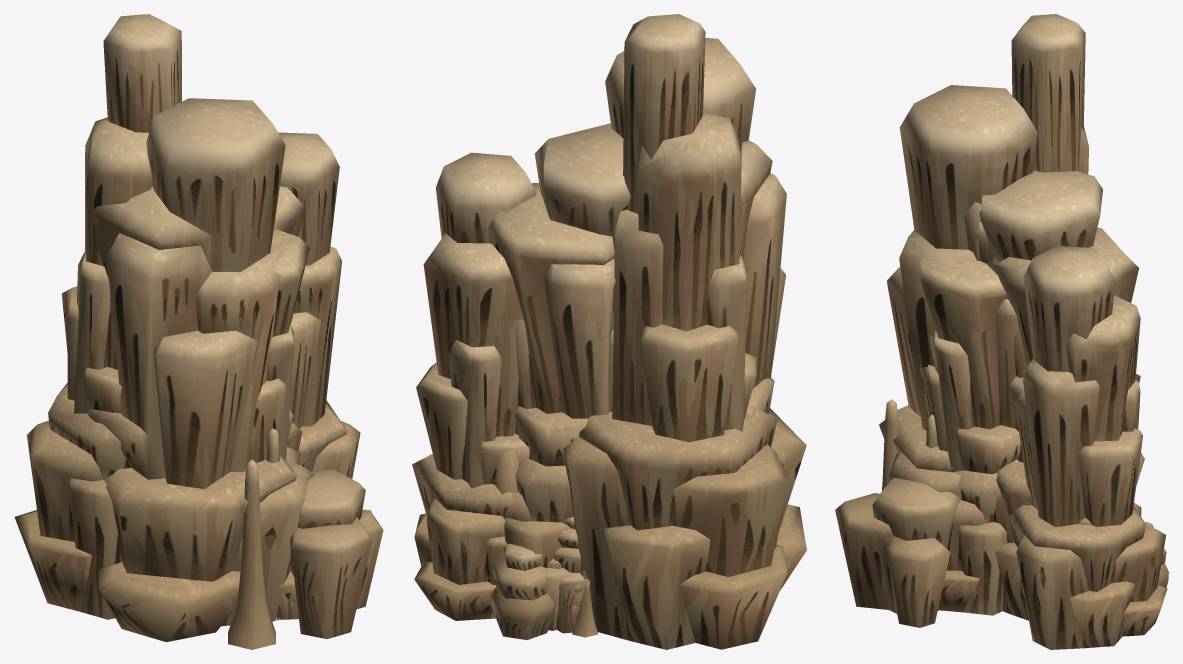
The model's file is cave_props.gltf.
3 views of the same model, side by side, from view 1: azimuth 30°, elevation 25°; view 2: azimuth 150°, elevation 25°; view 3: azimuth 270°, elevation 25° (orthographic). The views are drawn at different scales.
Parts seen in each view (by area): view 1: stalagmites_L_01, stalagmites_L_04, stalagmites_L_03, stalagmites_L_02; view 2: stalagmites_L_04, stalagmites_L_02, stalagmites_L_01, stalagmites_08, stalagmites_07, stalagmites_05, stalagmites_L_03, stalagmites_02, stalagmites_04; view 3: stalagmites_L_04, stalagmites_L_01, stalagmites_L_03, stalagmites_L_02.
Boxes of the visible parts, x1,y1,x2,y2 form: stalagmites_L_01: [87, 98, 314, 642]; stalagmites_L_04: [14, 14, 383, 638]; stalagmites_L_03: [251, 229, 309, 604]; stalagmites_L_02: [228, 186, 305, 649]; stalagmites_L_04: [412, 14, 787, 649]; stalagmites_L_02: [487, 123, 630, 578]; stalagmites_L_01: [605, 38, 806, 590]; stalagmites_08: [490, 543, 554, 639]; stalagmites_07: [548, 559, 589, 633]; stalagmites_05: [553, 517, 583, 627]; stalagmites_L_03: [493, 450, 518, 494]; stalagmites_02: [572, 560, 597, 637]; stalagmites_04: [545, 567, 569, 630]; stalagmites_L_04: [835, 14, 1167, 649]; stalagmites_L_01: [879, 85, 1093, 525]; stalagmites_L_03: [920, 222, 1020, 615]; stalagmites_L_02: [882, 170, 1141, 620].
Bounding box in the file's own units: 5.1 × 8.27 × 4.68.
2 materials, 2 textured.
